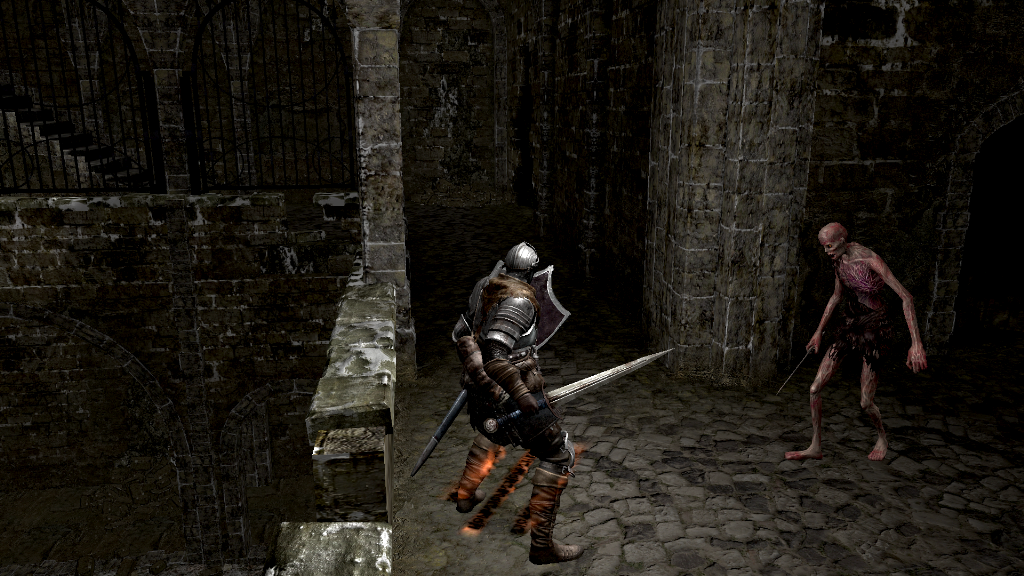hollow: (784, 222, 927, 461)
player: (451, 239, 677, 566)
